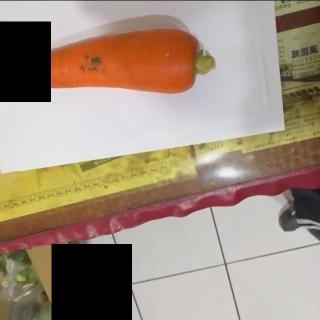carrot: (1, 28, 215, 96)
